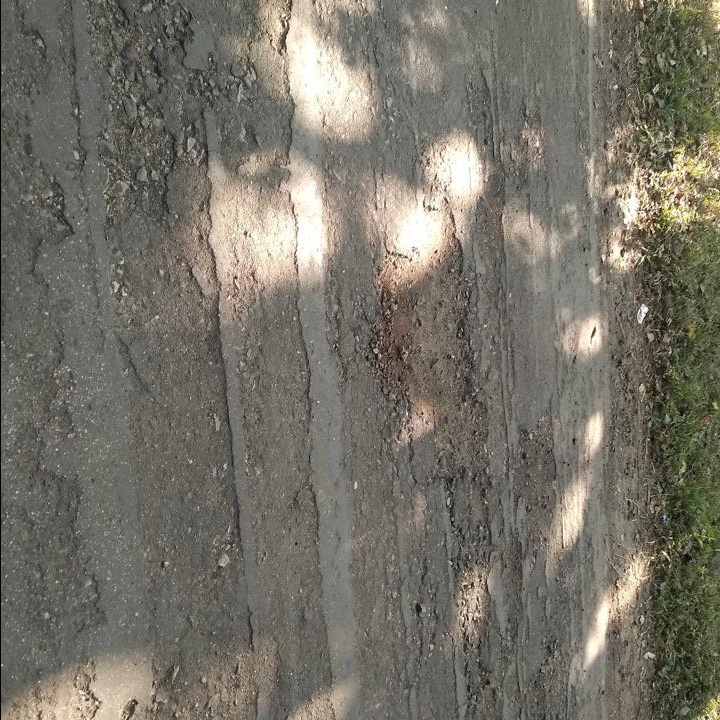pothole: (369, 194, 488, 506)
